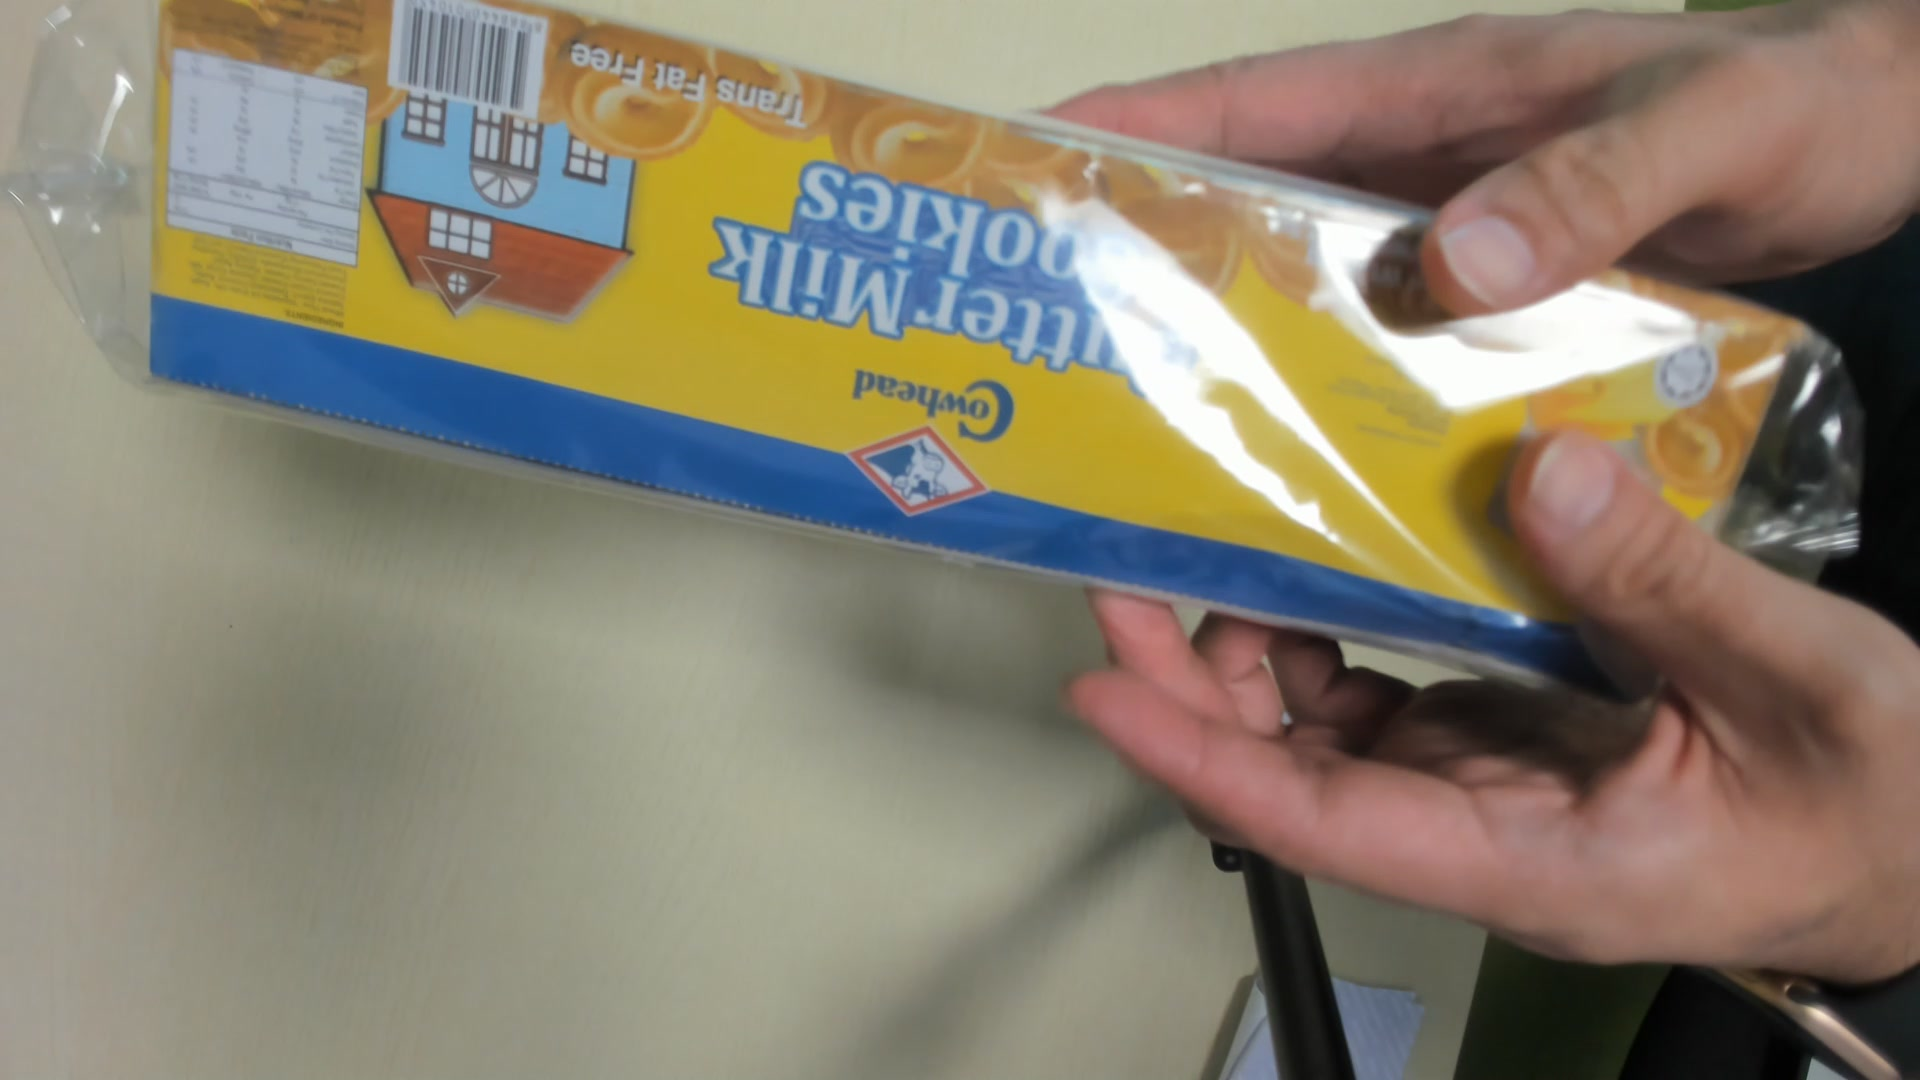SweetsChocolatesOthers_200-299g_Halal_Nonhealthy: (115, 25, 1788, 709)
